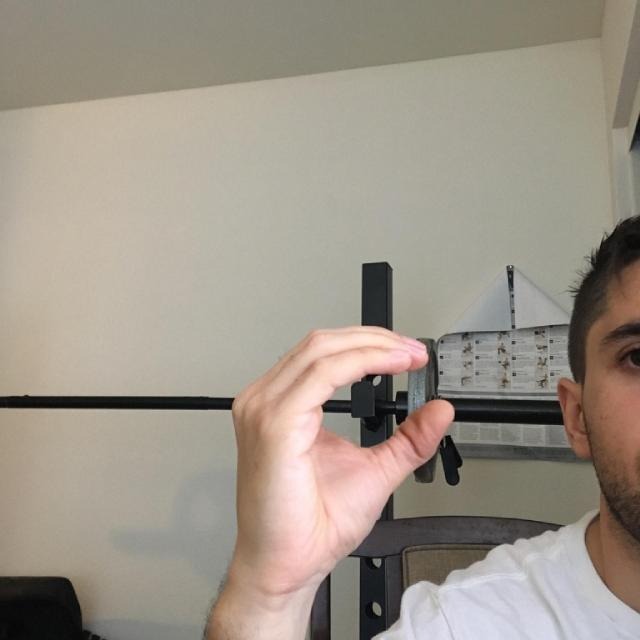C: (197, 301, 474, 594)
